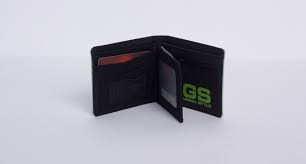monedero: (91, 35, 226, 124)
